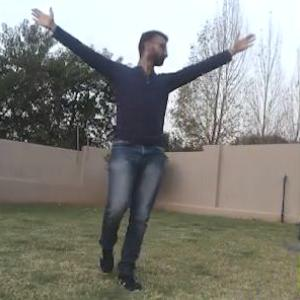takeoff: (56, 0, 258, 297)
